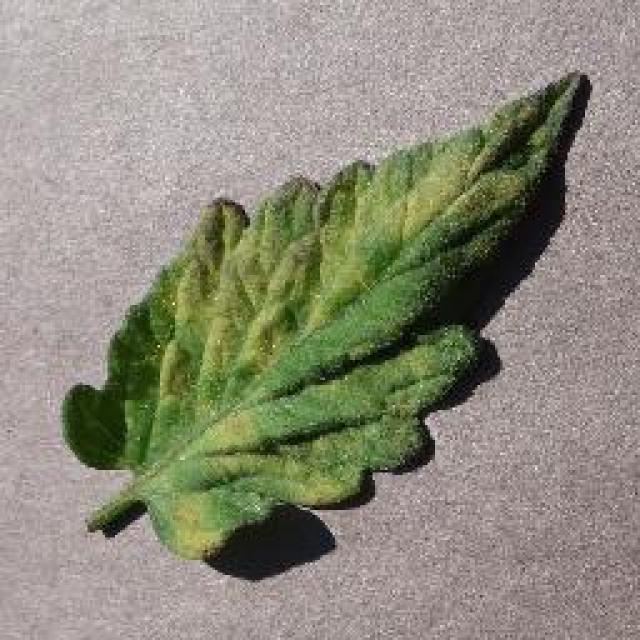leaf mold: (63, 74, 597, 556)
